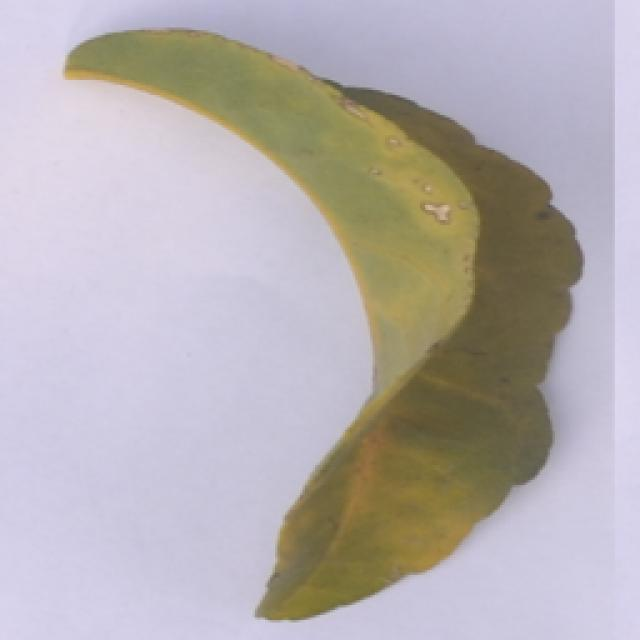greening: (57, 22, 594, 628)
